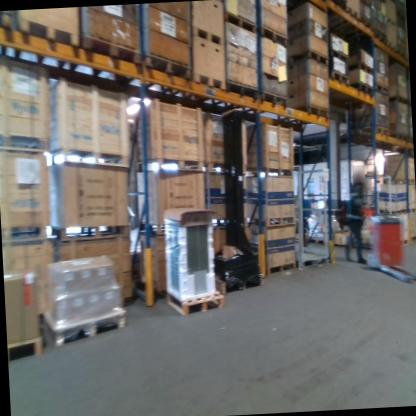pallet: (40, 303, 130, 349), (42, 142, 130, 176), (17, 13, 82, 50), (82, 32, 144, 68), (164, 284, 226, 318), (51, 217, 132, 242), (133, 154, 207, 176), (144, 52, 192, 84), (0, 128, 53, 155), (1, 222, 53, 248), (212, 270, 264, 294), (7, 336, 45, 365), (222, 8, 258, 37), (259, 22, 292, 52), (202, 156, 246, 178), (225, 78, 264, 102), (288, 47, 330, 69), (244, 163, 295, 181), (190, 23, 226, 48), (247, 213, 296, 230), (136, 217, 173, 237), (293, 102, 331, 121), (192, 68, 226, 89), (210, 214, 252, 230), (351, 122, 389, 139), (265, 261, 298, 278), (347, 79, 373, 99), (260, 91, 287, 110), (324, 71, 351, 88), (330, 47, 351, 67), (378, 205, 409, 218), (348, 61, 374, 75), (0, 11, 18, 31), (356, 13, 372, 34), (389, 127, 409, 143), (344, 4, 359, 25), (371, 28, 387, 47), (304, 234, 328, 246), (388, 94, 407, 107), (391, 176, 415, 186), (373, 80, 388, 95), (383, 14, 398, 29), (386, 38, 398, 54), (326, 0, 346, 8), (398, 236, 409, 249), (408, 233, 416, 244), (406, 205, 415, 214)
pallet_truck: (358, 200, 416, 281)
